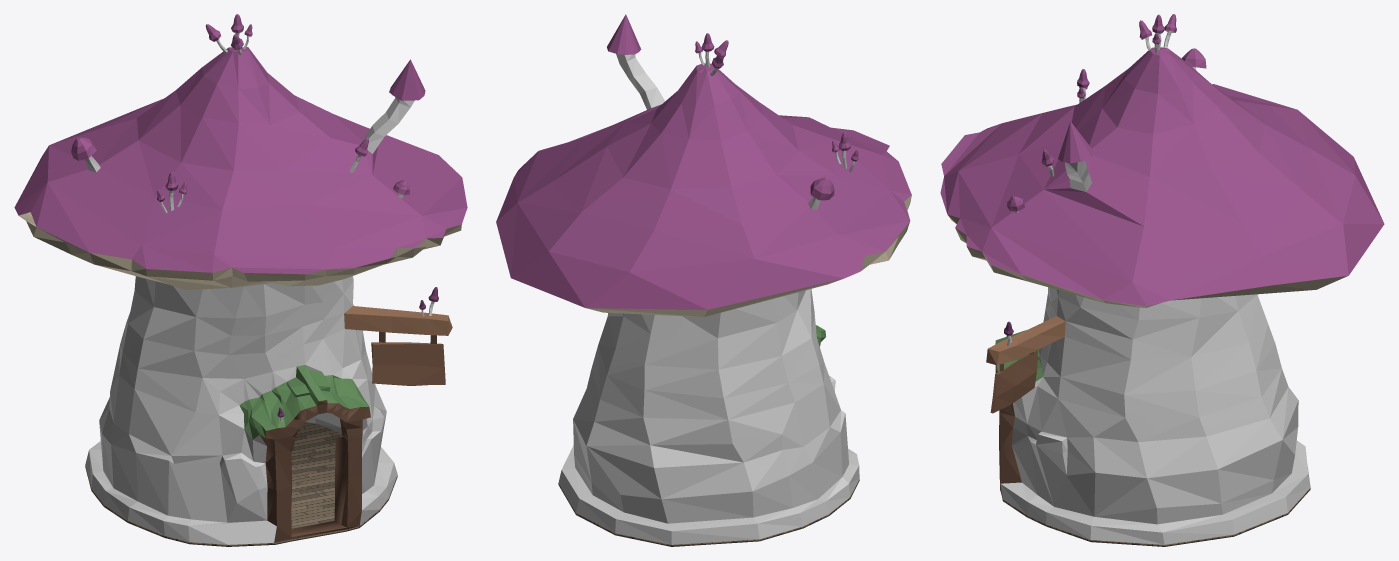
The model's file is mushroom_house.FBX.
3 views of the same model, side by side, from view 1: azimuth 30°, elevation 25°; view 2: azimuth 150°, elevation 25°; view 3: azimuth 270°, elevation 25° (orthographic). The views are drawn at different scales.
Visible parts, largest first — view 1: WallAndRoof, Door, Floor; view 2: WallAndRoof, Floor; view 3: WallAndRoof, Door, Floor.
Boxes of the visible parts, <box> form: WallAndRoof: <box>14,14,467,544</box>; Door: <box>265,400,370,542</box>; Floor: <box>85,422,397,546</box>; WallAndRoof: <box>496,14,911,544</box>; Floor: <box>558,479,859,546</box>; WallAndRoof: <box>940,14,1384,544</box>; Door: <box>995,365,1021,497</box>; Floor: <box>1002,488,1310,546</box>.
Bounding box in the file's own units: 53.51 × 60.28 × 52.05.
